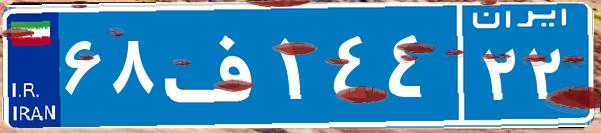1: (273, 28, 330, 110)
2: (475, 38, 525, 113), (525, 38, 570, 115)
4: (385, 28, 445, 110), (330, 28, 385, 110)
6: (57, 26, 110, 107)
8: (110, 28, 158, 105)
ف: (158, 15, 273, 115)
